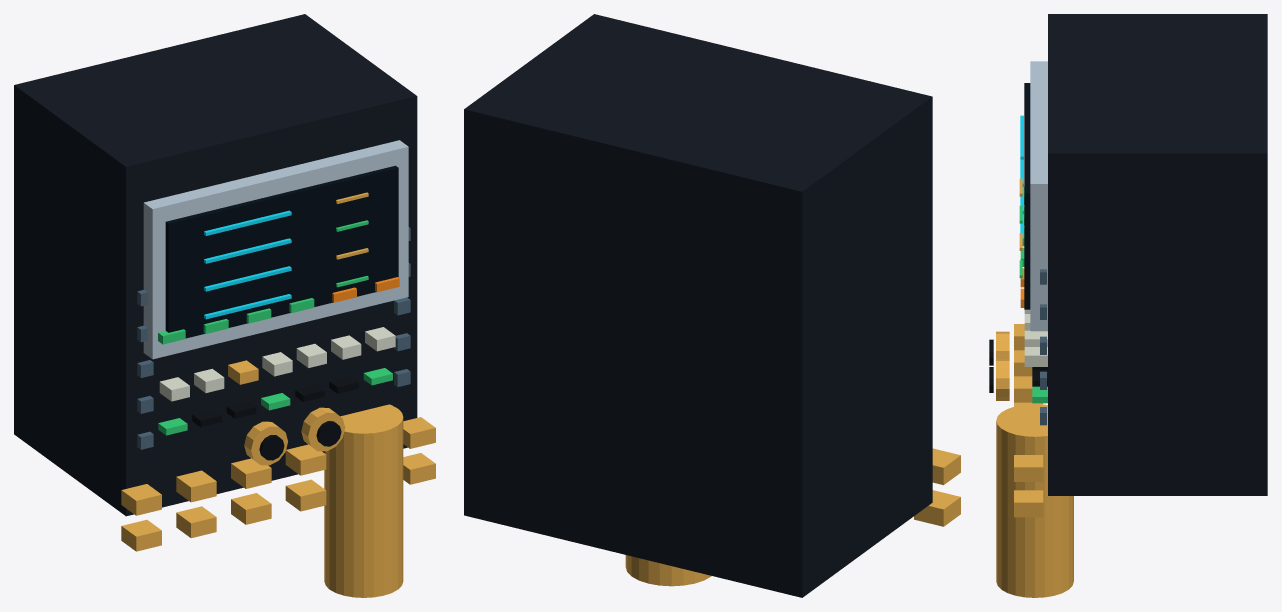
The model's file is 62_L92_RockCohesionTestProbe.fbx.
3 views of the same model, side by side, from view 1: azimuth 30°, elevation 25°; view 2: azimuth 150°, elevation 25°; view 3: azimuth 270°, elevation 25° (orthographic). The views are drawn at different scales.
Visible parts, largest first — view 1: L92_RockCohesionTestProbe, L92_RockCohesionTestProbe_Part_0011, L92_RockCohesionTestProbe_Part_0009, L92_RockCohesionTestProbe_Part_0014, L92_RockCohesionTestProbe_Part_0012; view 2: L92_RockCohesionTestProbe, L92_RockCohesionTestProbe_Part_0011; view 3: L92_RockCohesionTestProbe, L92_RockCohesionTestProbe_Part_0011, L92_RockCohesionTestProbe_Part_0014, L92_RockCohesionTestProbe_Part_0012.
Part boxes in pixels (box(x1,y1,x2,y2)): L92_RockCohesionTestProbe: box(14, 14, 435, 551); L92_RockCohesionTestProbe_Part_0011: box(324, 404, 403, 597); L92_RockCohesionTestProbe_Part_0009: box(158, 298, 314, 344); L92_RockCohesionTestProbe_Part_0014: box(301, 407, 345, 451); L92_RockCohesionTestProbe_Part_0012: box(244, 421, 287, 465); L92_RockCohesionTestProbe: box(464, 14, 960, 597); L92_RockCohesionTestProbe_Part_0011: box(625, 555, 711, 586); L92_RockCohesionTestProbe: box(1014, 14, 1267, 517); L92_RockCohesionTestProbe_Part_0011: box(996, 404, 1073, 597); L92_RockCohesionTestProbe_Part_0014: box(996, 359, 1009, 400); L92_RockCohesionTestProbe_Part_0012: box(996, 331, 1009, 358).
Bounding box in the file's own units: 105 × 156 × 86.2.
